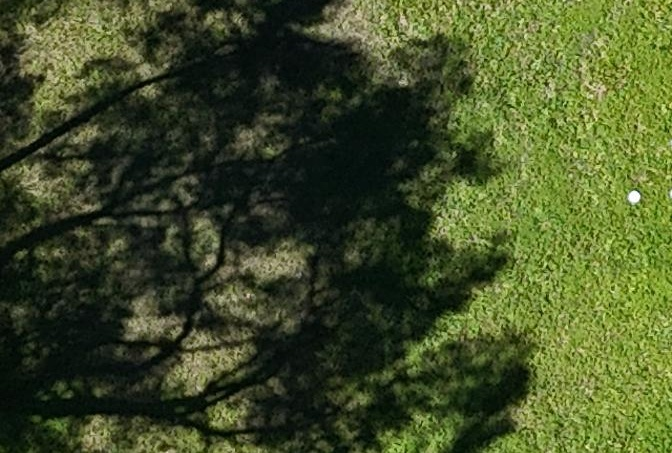bowl: (628, 190, 640, 204)
